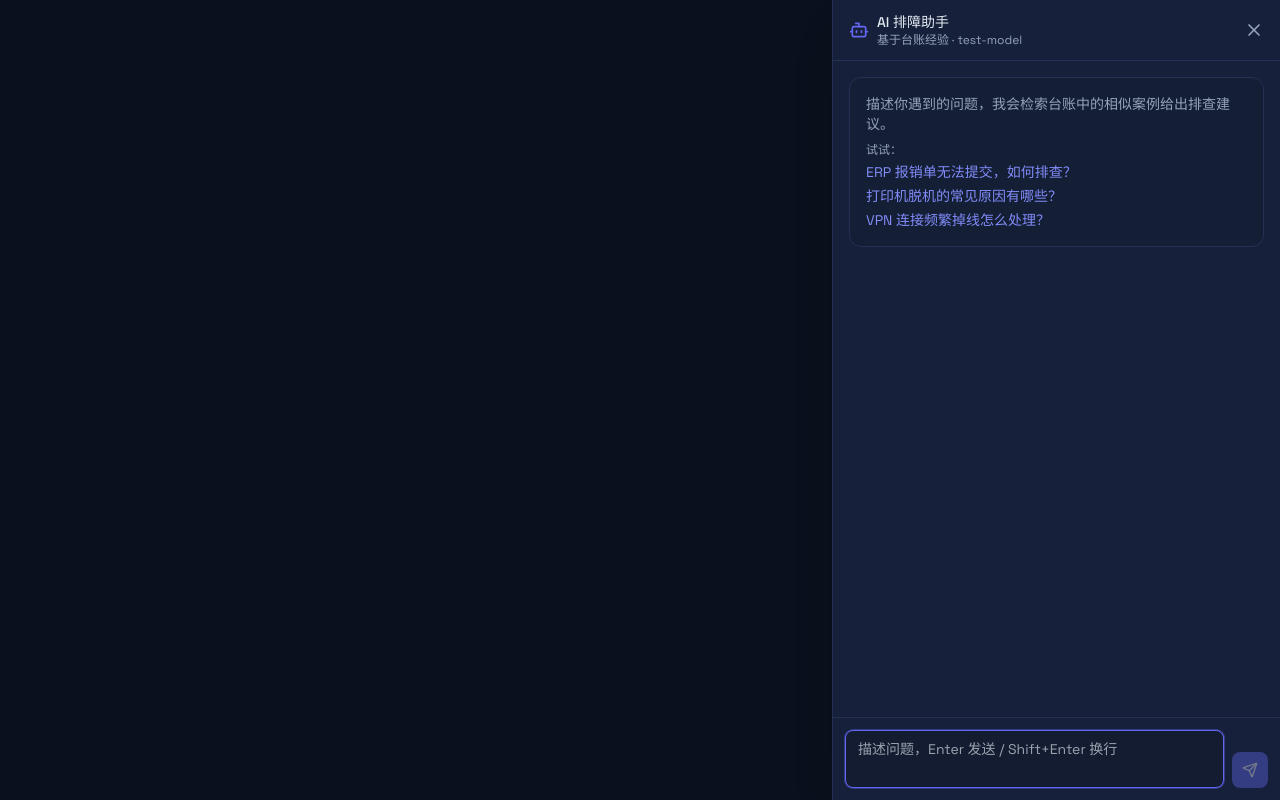
Test: AiChatDrawer 对话式排障（组件级） › 发送失败时弹出错误通知，已生成的部分保留不丢失
Step 1. Type "VPN 掉线" into the text box with placeholder "描述问题，Enter 发送 / Shift+Enter 换行" → (1034, 759), box [845,730,1224,788]
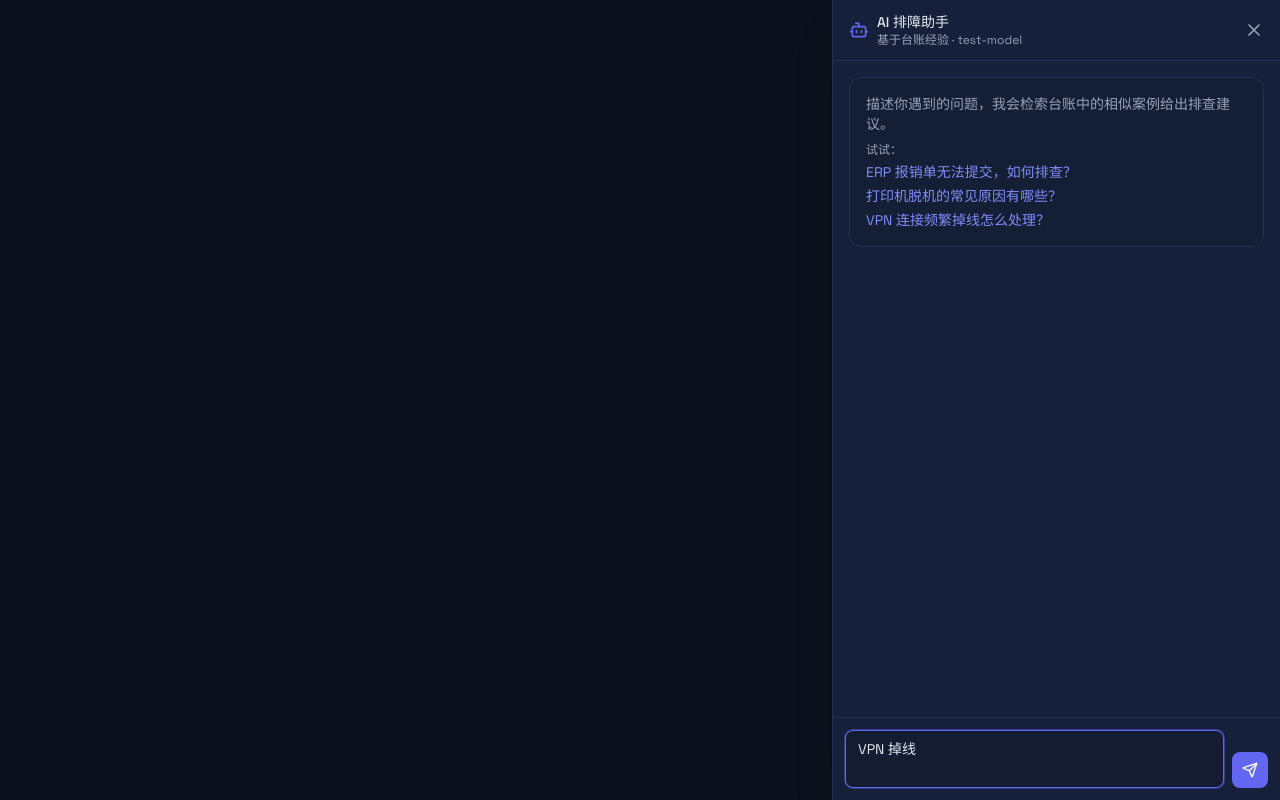
Step 2. Click the button titled "发送" → (1250, 770), box [1232,752,1268,788]
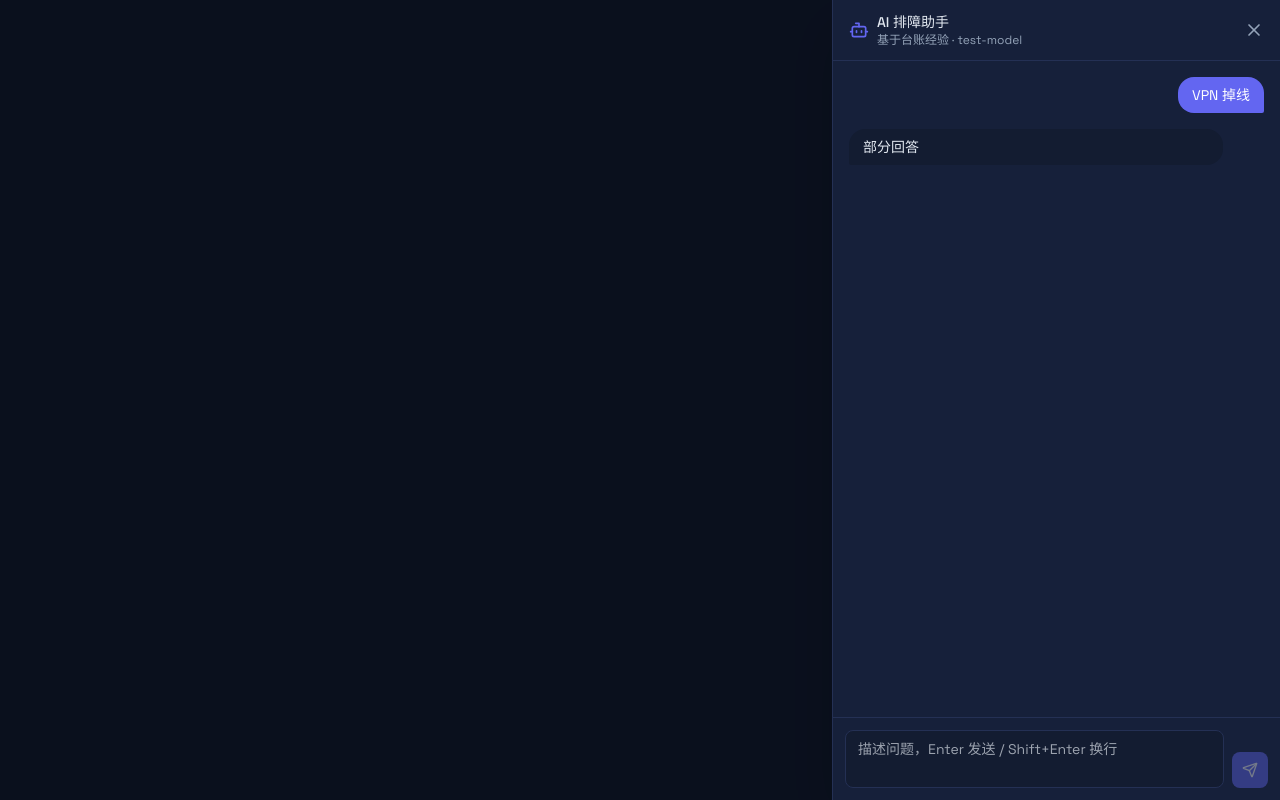
Expected: the text "部分回答" is shown, [849,129,1222,165]
